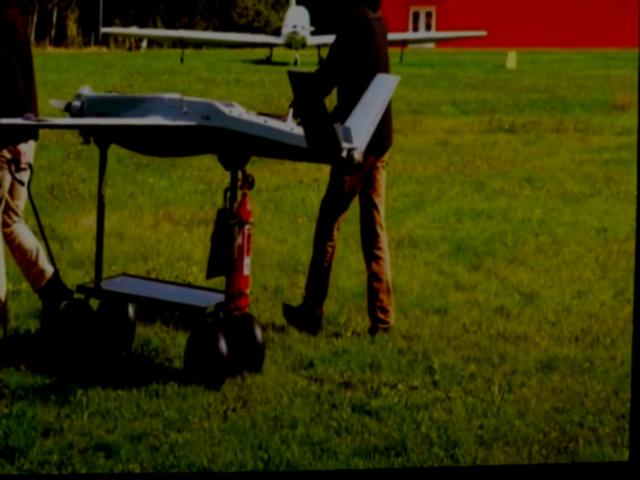iha: (94, 0, 492, 58)
